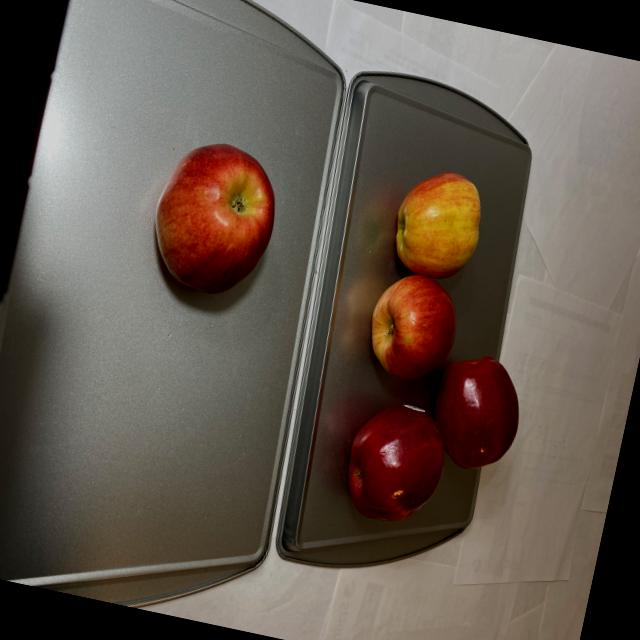apple: (329, 161, 567, 550), (138, 132, 290, 310)
